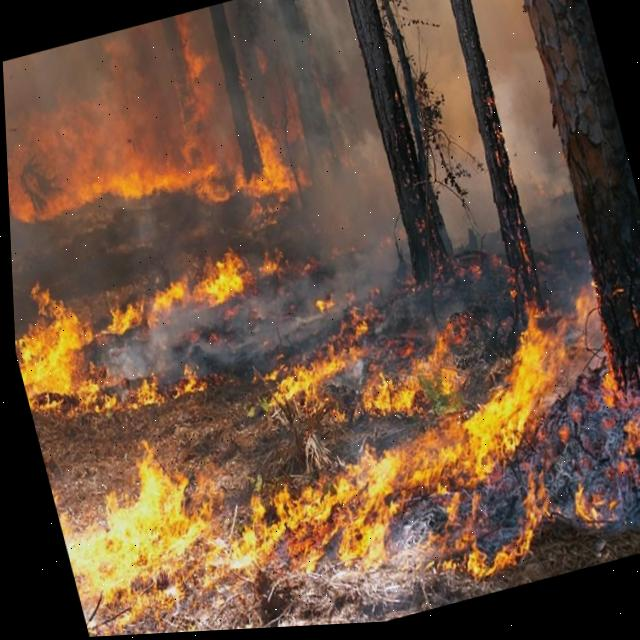fire: (47, 293, 603, 638), (11, 246, 460, 425), (3, 31, 270, 240), (11, 300, 124, 424)
smoke: (233, 0, 409, 296), (384, 0, 576, 246), (2, 18, 178, 100)
